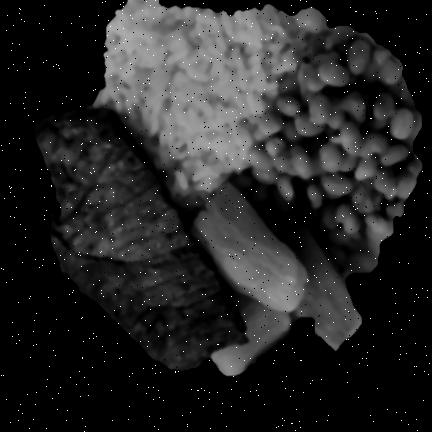beans: (236, 12, 420, 276)
cassava: (185, 180, 364, 376)
meat: (36, 111, 250, 368)
rice: (97, 4, 311, 209)
